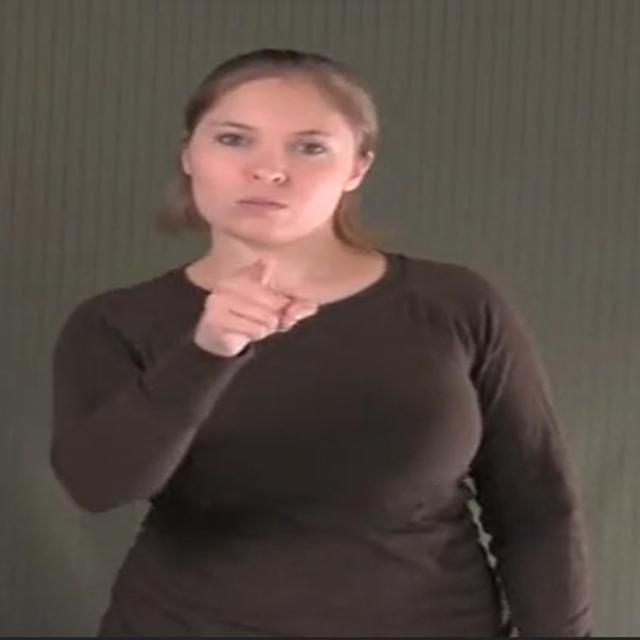you: (205, 257, 318, 353)
